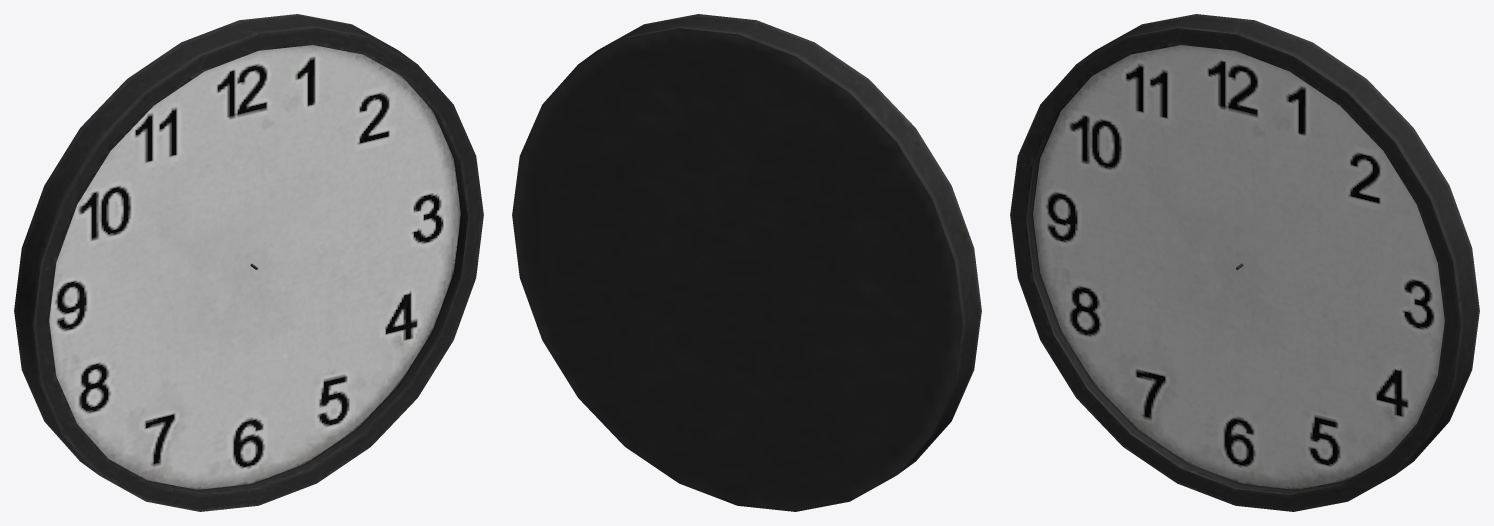
Rendered from wall_clock.dae.
The picture shows the model from 3 angles, left to right: view 1: azimuth 30°, elevation 25°; view 2: azimuth 150°, elevation 25°; view 3: azimuth 330°, elevation 25°; orthographic projection.
Parts seen in each view (by area): view 1: Wall_clock; view 2: Wall_clock; view 3: Wall_clock.
Boxes of the visible parts, left/top/right/bottom form: Wall_clock: left=14, top=14, right=483, bottom=511; Wall_clock: left=512, top=14, right=981, bottom=511; Wall_clock: left=1010, top=14, right=1479, bottom=511.
Bounding box in the file's own units: 40 × 40 × 2.96.
